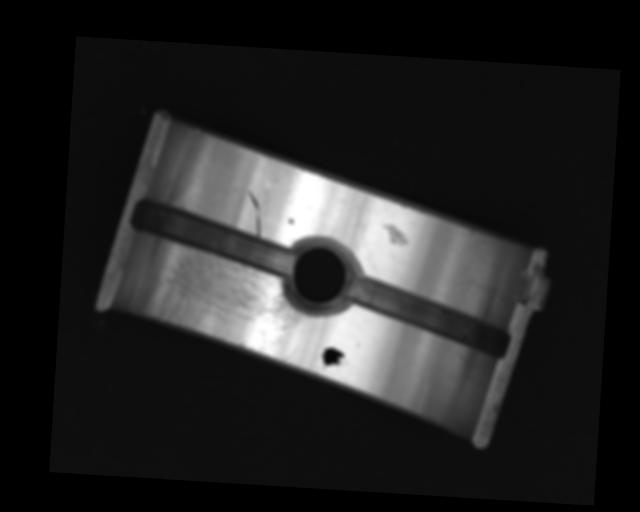blot: (319, 346, 349, 370)
bruise: (382, 223, 409, 247), (288, 216, 294, 224)
gap: (127, 196, 298, 277), (344, 275, 512, 357)
hole: (282, 236, 359, 316)
nick: (245, 189, 264, 237)
scratch: (137, 242, 313, 359)
